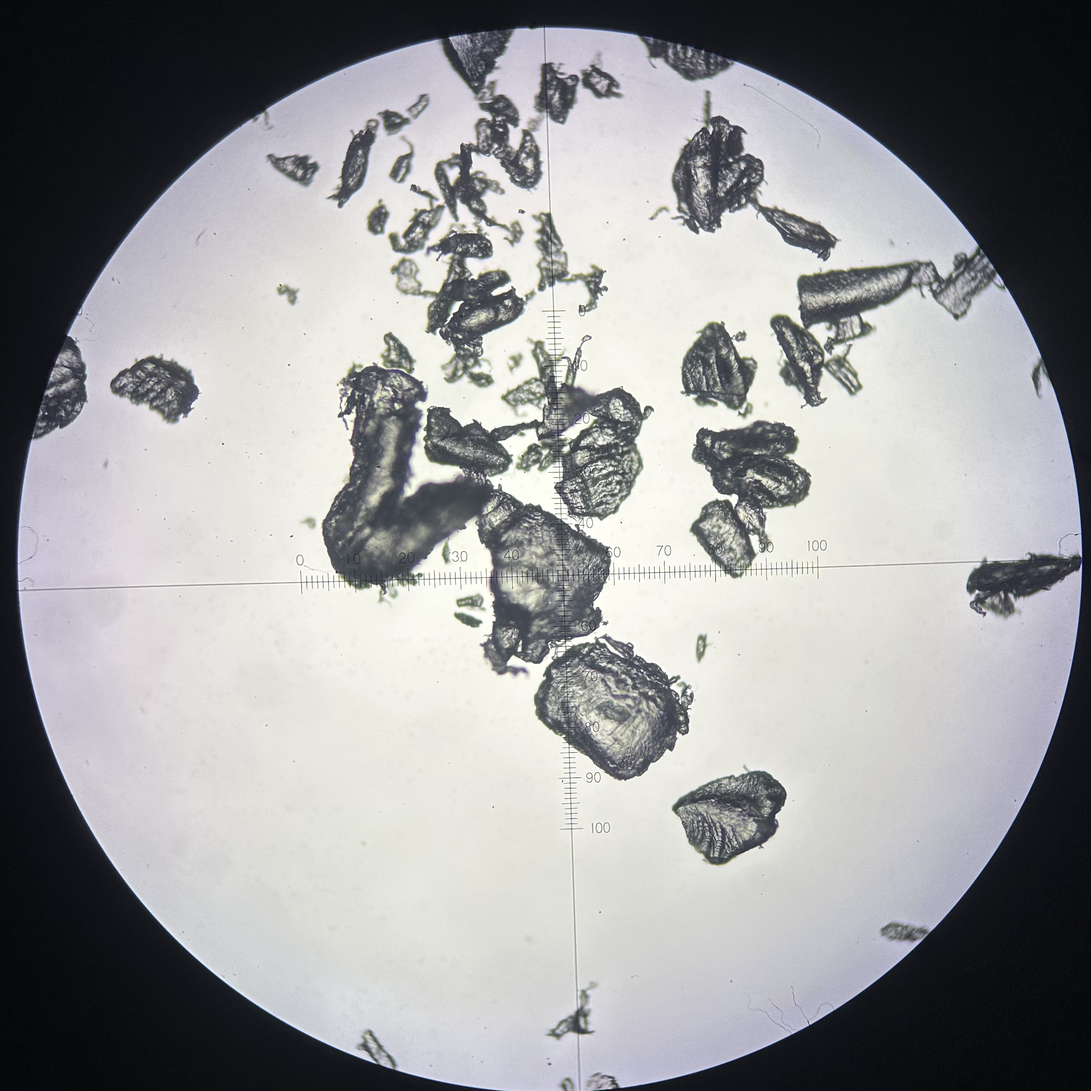microplastic: (319, 361, 495, 600), (472, 483, 612, 666), (533, 632, 695, 783), (553, 385, 655, 522), (669, 763, 790, 866), (669, 113, 767, 237), (795, 259, 946, 332), (965, 552, 1081, 620), (679, 319, 759, 412), (458, 142, 524, 247), (109, 352, 202, 425), (423, 405, 514, 476), (30, 334, 89, 443), (690, 420, 801, 474), (769, 312, 830, 410), (710, 452, 813, 508), (688, 499, 758, 581), (439, 27, 517, 97), (324, 117, 381, 211), (754, 204, 844, 263), (931, 243, 998, 322), (636, 32, 738, 83), (536, 382, 604, 439), (543, 979, 602, 1042), (529, 210, 570, 292), (531, 60, 581, 127), (387, 204, 446, 256), (499, 127, 546, 190), (557, 262, 609, 314), (525, 335, 559, 411), (731, 499, 773, 554), (265, 150, 322, 189), (479, 636, 531, 678), (389, 255, 438, 298), (822, 353, 865, 400), (501, 376, 548, 418), (454, 170, 508, 206), (355, 1028, 398, 1072), (431, 159, 460, 223), (559, 333, 593, 387), (379, 330, 418, 376), (439, 346, 485, 385), (580, 64, 627, 100), (473, 116, 511, 158), (829, 313, 879, 344), (478, 93, 521, 129), (489, 418, 544, 444), (388, 135, 417, 184), (776, 348, 804, 395), (537, 435, 570, 473), (879, 920, 933, 943), (558, 1072, 622, 1091), (375, 108, 413, 138), (514, 440, 545, 475), (366, 198, 392, 237), (1028, 358, 1051, 401), (403, 90, 433, 120), (460, 464, 492, 487), (407, 182, 441, 202), (471, 79, 498, 104), (492, 140, 519, 164), (454, 593, 486, 613), (452, 610, 484, 630), (275, 283, 302, 306), (700, 88, 713, 132), (525, 111, 547, 136), (250, 109, 276, 130), (466, 370, 496, 388), (464, 335, 486, 358), (507, 350, 525, 376), (694, 633, 709, 664), (648, 205, 671, 224), (691, 395, 719, 410), (736, 401, 755, 421), (444, 153, 464, 170), (376, 587, 392, 606), (298, 515, 317, 531), (822, 335, 836, 356), (440, 541, 451, 566), (839, 343, 850, 368), (732, 329, 748, 344), (525, 287, 536, 308), (991, 278, 1006, 292), (555, 347, 566, 362)
